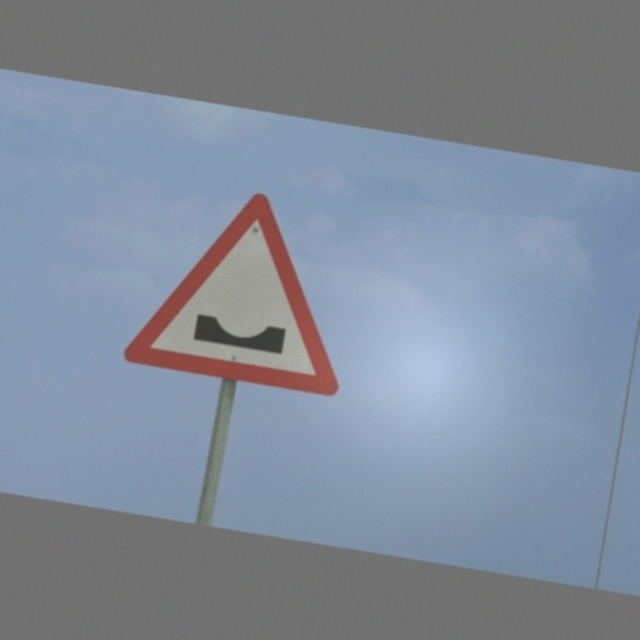Dangerous_Dip: (122, 171, 369, 399)
